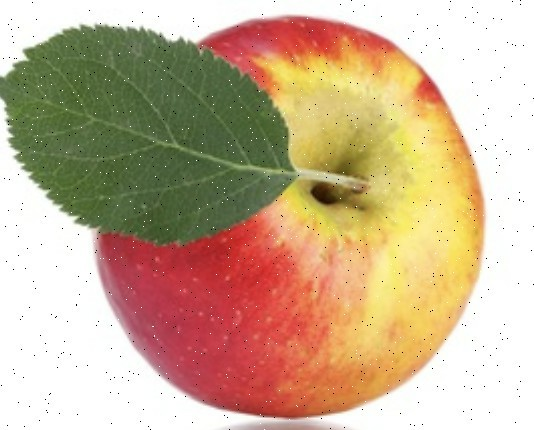fresh_apple: (91, 15, 488, 415)
